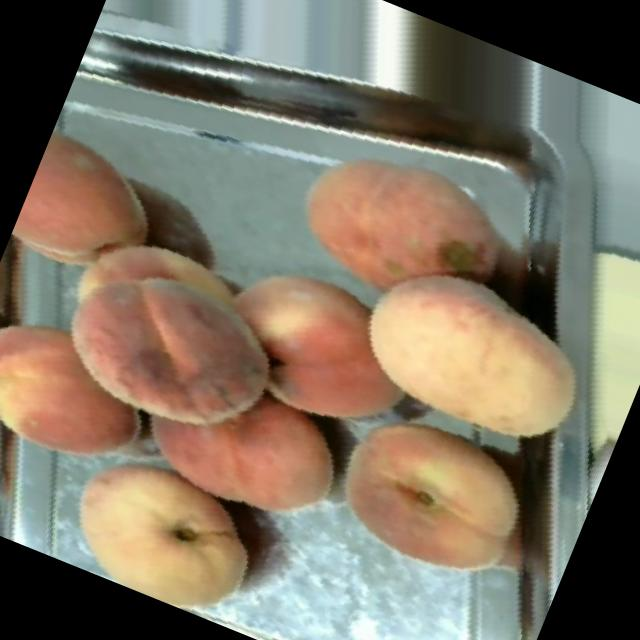Fruit: (1, 192, 331, 495), (310, 205, 640, 495), (256, 95, 553, 358), (291, 382, 565, 620), (80, 339, 370, 557), (196, 232, 454, 462), (33, 420, 300, 636), (0, 278, 190, 513), (0, 107, 189, 311), (502, 198, 640, 461)
